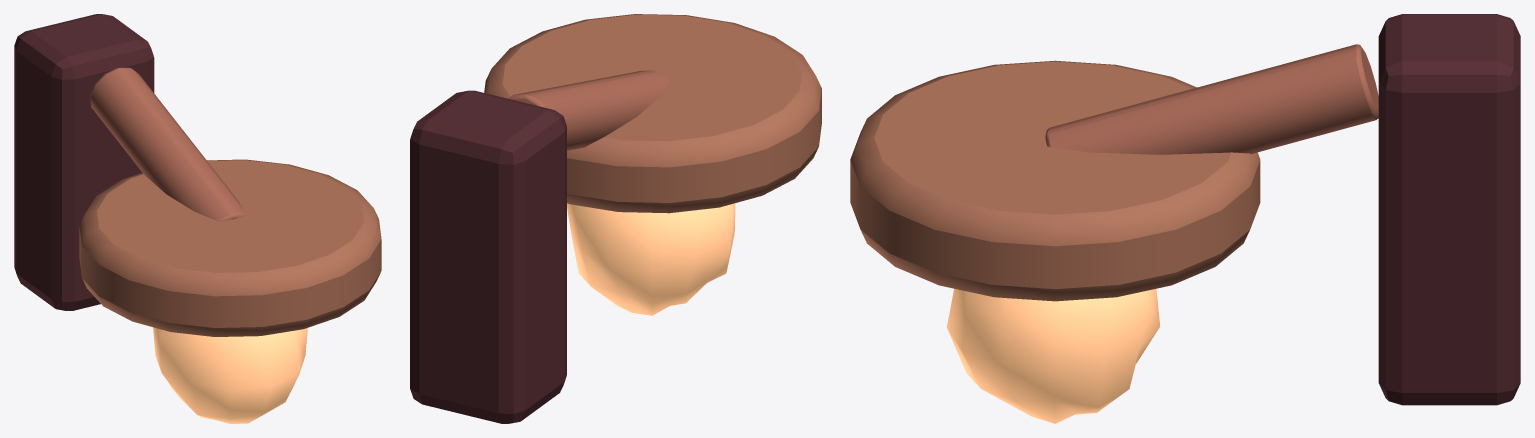
Rendered from WC_RIVER_Lamp_Practical_A.glb.
3 views of the same model, side by side, from view 1: azimuth 30°, elevation 25°; view 2: azimuth 150°, elevation 25°; view 3: azimuth 270°, elevation 25° (orthographic). The views are drawn at different scales.
Visible parts, largest first — view 1: WC_RIVER_Lamp_Practical_A_RenderMesh; view 2: WC_RIVER_Lamp_Practical_A_RenderMesh; view 3: WC_RIVER_Lamp_Practical_A_RenderMesh.
Part boxes in pixels (<box>): WC_RIVER_Lamp_Practical_A_RenderMesh: <box>14,14,381,423</box>; WC_RIVER_Lamp_Practical_A_RenderMesh: <box>410,14,821,423</box>; WC_RIVER_Lamp_Practical_A_RenderMesh: <box>850,14,1520,423</box>.
Bounding box in the file's own units: 0.26 × 0.2647 × 0.425.
